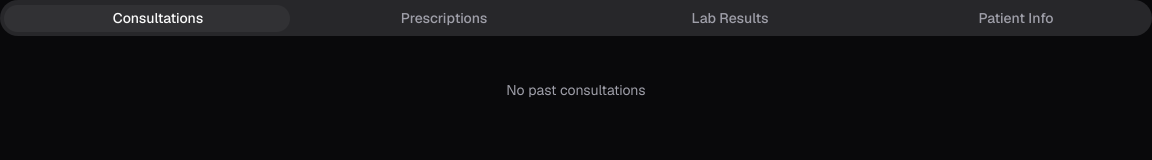
Test: PatientTimeline › shows lab order with status badge
This screenshot has width=1152, height=160.
Note: Click Lab Results tab
Click the tab "Lab Results".
click(719, 18)  # box x1=576 y1=4 x2=862 y2=32
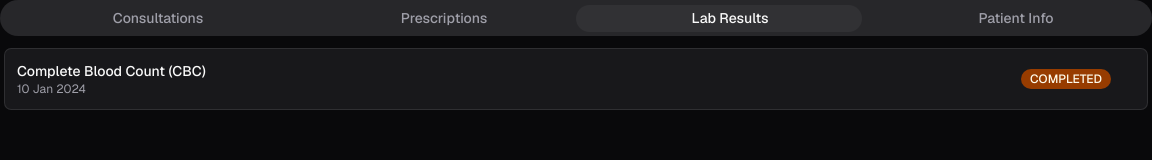
Check: the text "Complete Blood Count" is shown, box x1=17 y1=62 x2=165 y2=80
